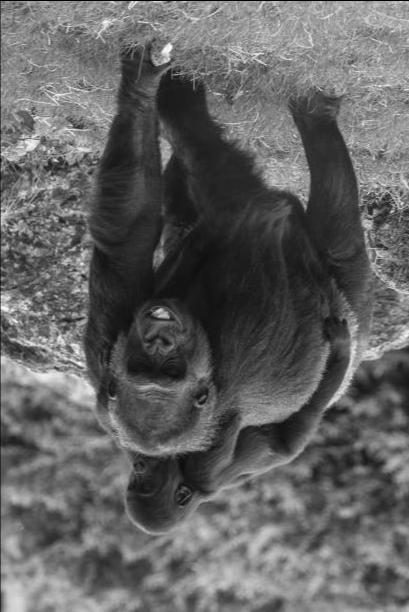gorille_Autres: (22, 52, 370, 560), (121, 421, 375, 542)
